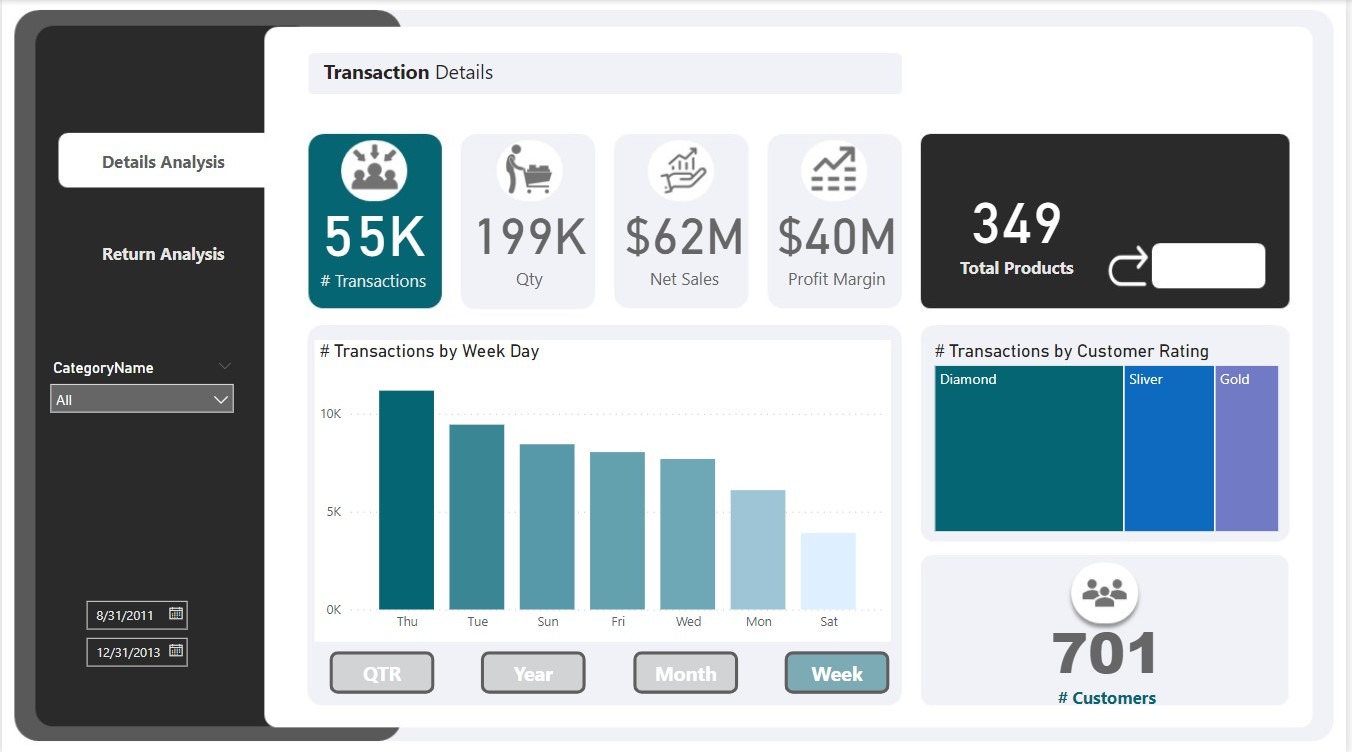

Layout of this report page (visuals, bound fields, positions):
{"tool":"powerbi","page":{"name":"Transaction","canvas":[1280,720],"ordinal":0},"visuals":[{"type":"card","fields":{"Values":["All Measures.# Transactions"]},"box":[285.6,160.7,135.7,136.9],"z":0},{"type":"actionButton","title":"InActive QTR","box":[311.8,620,100,40.5],"z":0,"group":"g2"},{"type":"actionButton","title":"InActive Year","box":[456.2,620,100,40.5],"z":0,"group":"g3"},{"type":"actionButton","title":"InActive Month","box":[600.6,620,100,40.5],"z":0,"group":"g4"},{"type":"card","fields":{"Values":["All Measures.Qty"]},"box":[434.4,161.9,135.7,136.9],"z":1000},{"type":"actionButton","title":"Active Week","box":[745,620,100,40.5],"z":1000,"group":"g1"},{"type":"card","fields":{"Values":["All Measures.Net Sales"]},"box":[582,161.9,135.7,136.9],"z":2000},{"type":"card","fields":{"Values":["All Measures.Gross Profit Margin"]},"box":[727.1,161.9,135.7,136.9],"z":3000},{"type":"card","fields":{"Values":["All Measures.# Products"]},"box":[898.5,160.7,135.7,110.7],"z":4000},{"type":"clusteredColumnChart","fields":{"Category":["Calender.Week Day"],"Y":["All Measures.# Transactions"]},"box":[297.5,323.7,548.6,286.8],"z":6000},{"type":"group","id":"g1","title":"Week Btn","box":[745,620,100,40.5],"z":9000},{"type":"group","id":"g2","title":"QTR Btn","box":[311.8,620,100,40.5],"z":10000},{"type":"group","id":"g3","title":"Year Btn","box":[456.2,620,100,40.5],"z":11000},{"type":"group","id":"g4","title":"Month Btn","box":[600.6,620,100,40.5],"z":12000},{"type":"treemap","fields":{"Group":["LookUp_Customers.Customer Rating"],"Values":["All Measures.# Transactions"]},"box":[883,323.7,338,188],"z":13000},{"type":"card","fields":{"Values":["All Measures.# Customers"]},"box":[975.9,579.6,152.3,98.8],"z":14000},{"type":"textbox","box":[301.1,50,349.9,38.1],"z":15000},{"type":"actionButton","box":[55.9,128.5,195.2,48.8],"z":16000},{"type":"slicer","fields":{"Values":["Calender.Date"]},"box":[67.8,561.7,130.9,78.5],"z":17000},{"type":"actionButton","box":[55.9,216.6,195.2,48.8],"z":18000},{"type":"slicer","fields":{"Values":["LookUp_ProductCategory.CategoryName"]},"box":[35.7,336.8,195.2,60.7],"z":19000},{"type":"actionButton","box":[434.4,128.5,133,169],"z":20000},{"type":"actionButton","box":[582,128.5,133.3,169],"z":21000}]}

Visuals, with their boxes on the page's 1280x720 design canvas (x1, y1, x2, y2). These are canvas units, not pixel positions in the 1352x752 screenshot, which may show the page scaled, cropped or inside an application window:
card - All Measures.# Transactions: [286, 161, 421, 298]
"InActive QTR" actionButton: [312, 620, 412, 660]
"InActive Year" actionButton: [456, 620, 556, 660]
"InActive Month" actionButton: [601, 620, 701, 660]
card - All Measures.Qty: [434, 162, 570, 299]
"Active Week" actionButton: [745, 620, 845, 660]
card - All Measures.Net Sales: [582, 162, 718, 299]
card - All Measures.Gross Profit Margin: [727, 162, 863, 299]
card - All Measures.# Products: [898, 161, 1034, 271]
clusteredColumnChart - Calender.Week Day x All Measures.# Transactions: [298, 324, 846, 610]
"Week Btn" group: [745, 620, 845, 660]
"QTR Btn" group: [312, 620, 412, 660]
"Year Btn" group: [456, 620, 556, 660]
"Month Btn" group: [601, 620, 701, 660]
treemap - LookUp_Customers.Customer Rating x All Measures.# Transactions: [883, 324, 1221, 512]
card - All Measures.# Customers: [976, 580, 1128, 678]
textbox: [301, 50, 651, 88]
actionButton: [56, 128, 251, 177]
slicer - Calender.Date: [68, 562, 199, 640]
actionButton: [56, 217, 251, 265]
slicer - LookUp_ProductCategory.CategoryName: [36, 337, 231, 398]
actionButton: [434, 128, 567, 298]
actionButton: [582, 128, 715, 298]
